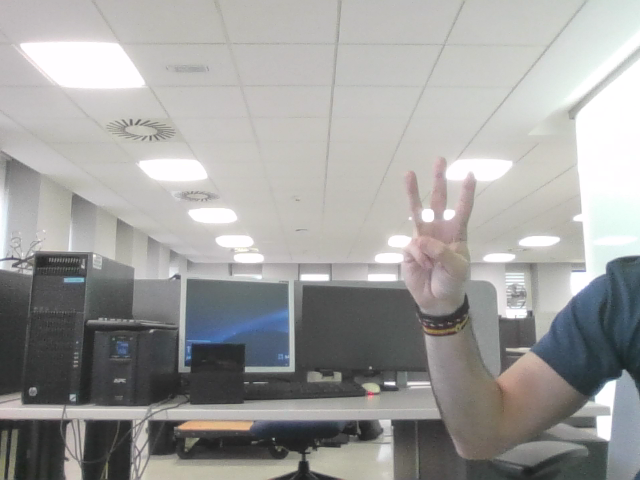3Dedos: (410, 169, 465, 285)
